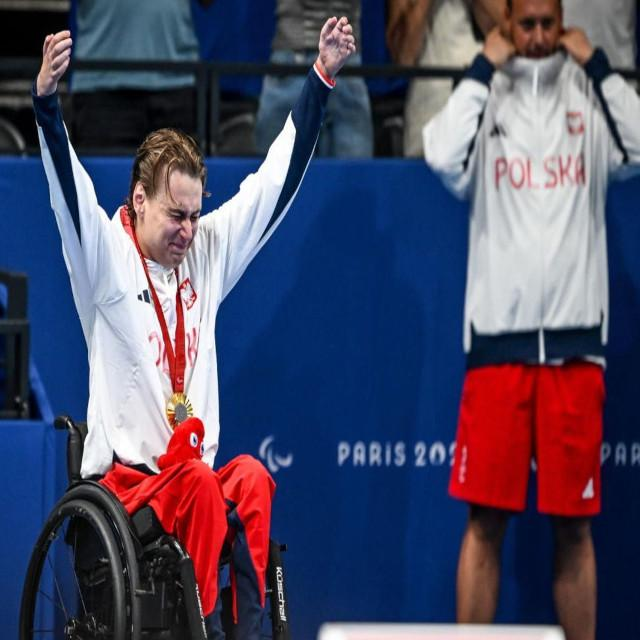mezczyzna: (21, 13, 363, 630), (409, 0, 640, 640)
